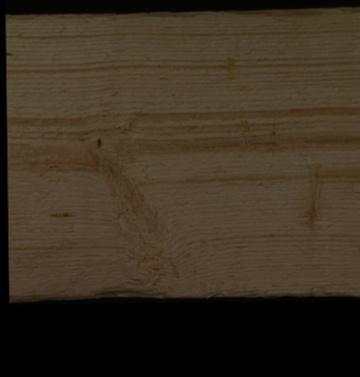wave: (43, 278, 338, 300)
